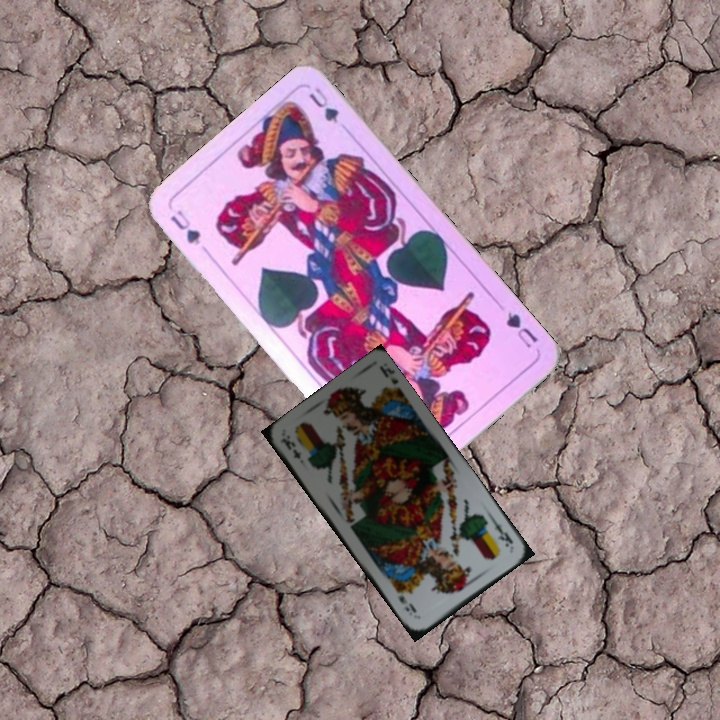EK: (487, 514, 516, 549), (276, 434, 304, 462)
GU: (502, 307, 541, 351), (166, 205, 203, 249)
